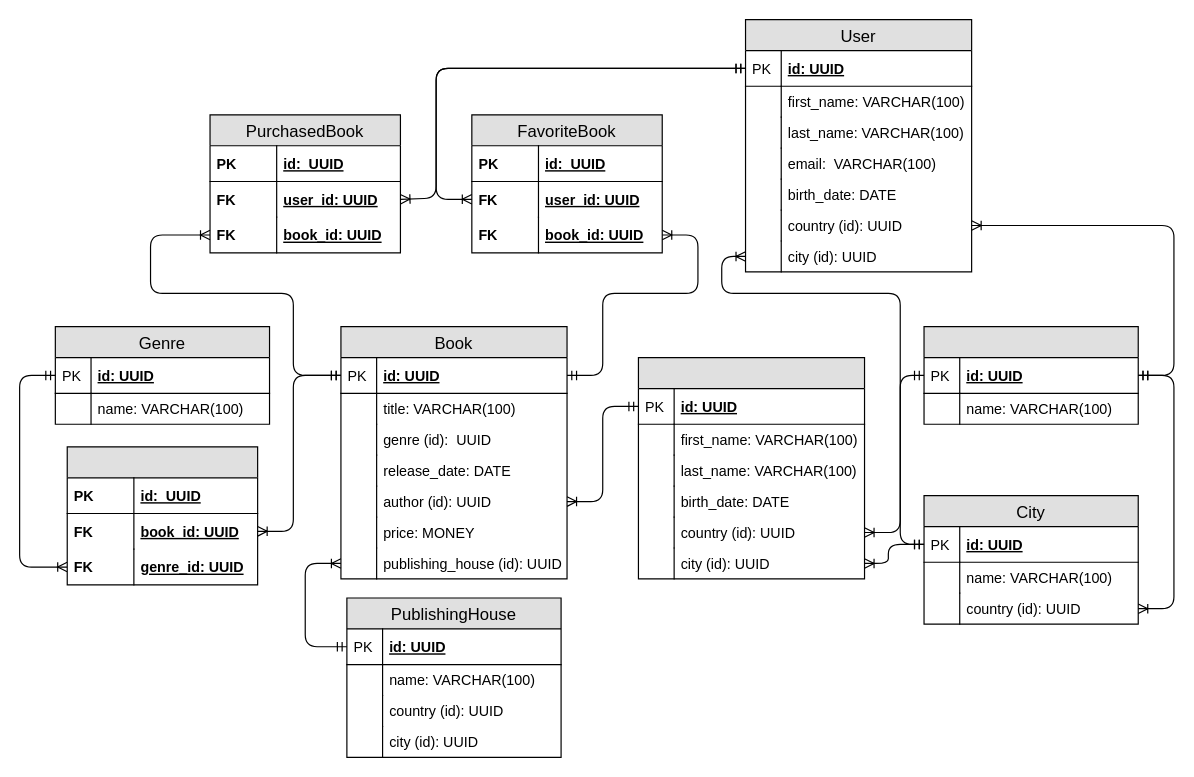
Image size: 1194x777. Some labels were removed from this diagram. The shapes that lost their labels are listed below. From the top down, each one's box as (x1, y1, x2, y2) in pixels, then its label:
(923, 325, 1138, 424): Country
(637, 356, 865, 579): Author
(66, 446, 258, 585): BookGenre
